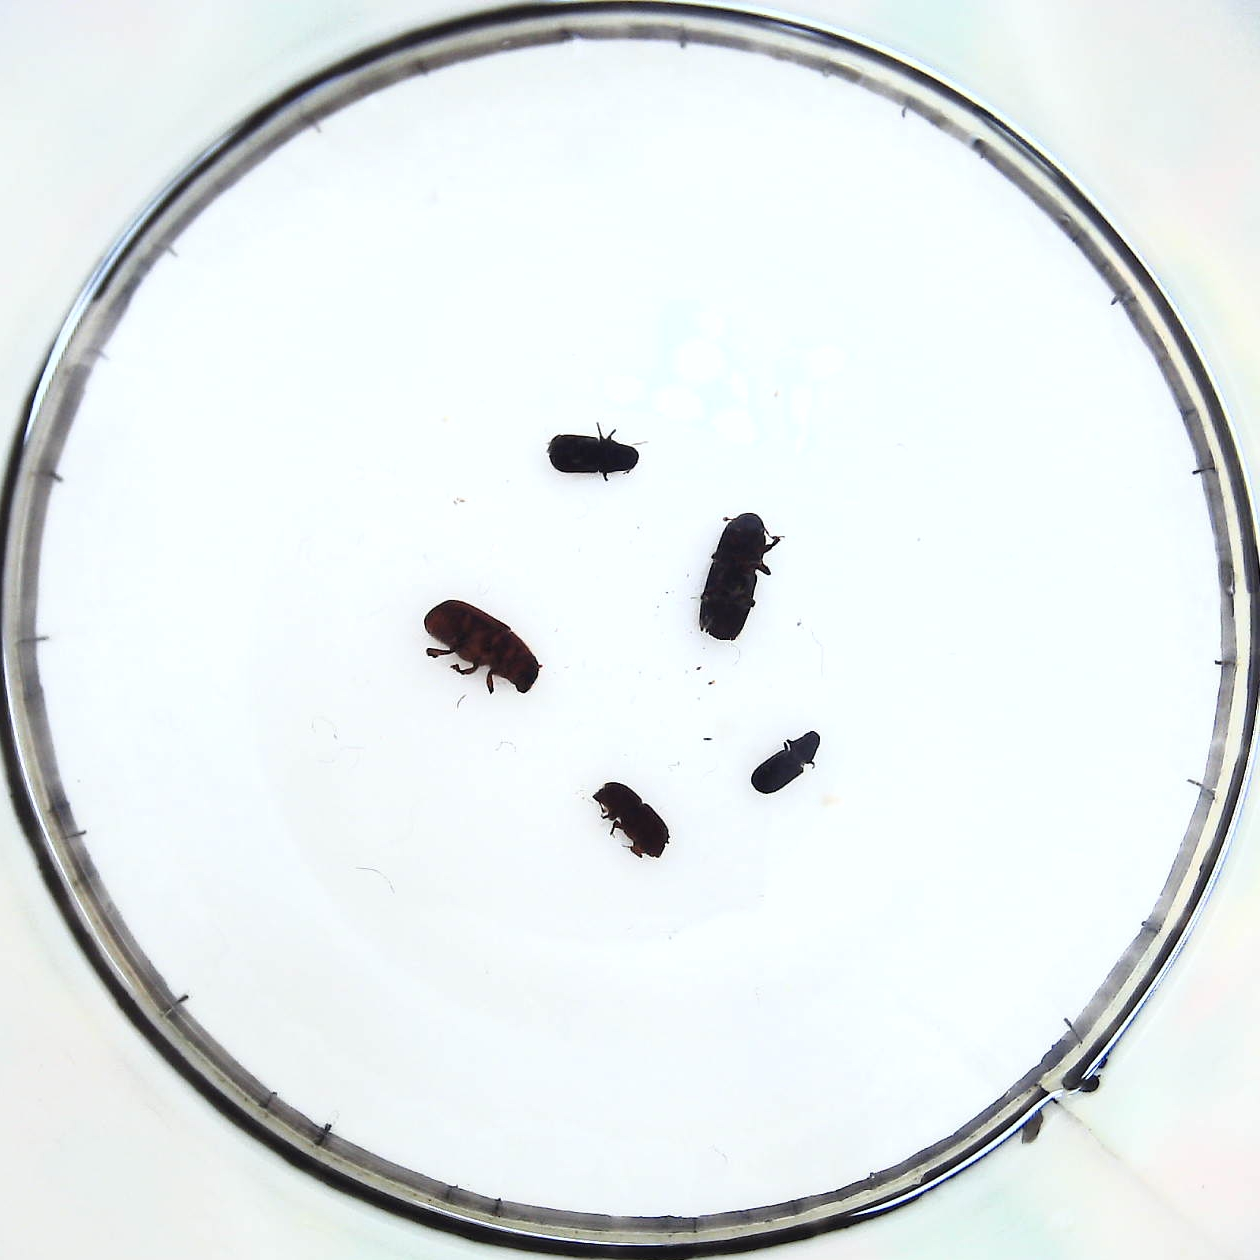Boerner: (702, 507, 772, 640)
Leconte: (422, 597, 540, 702)
Linnaeus: (597, 779, 672, 862)
armandi: (546, 429, 642, 485)
coleoptera: (753, 729, 823, 795)
